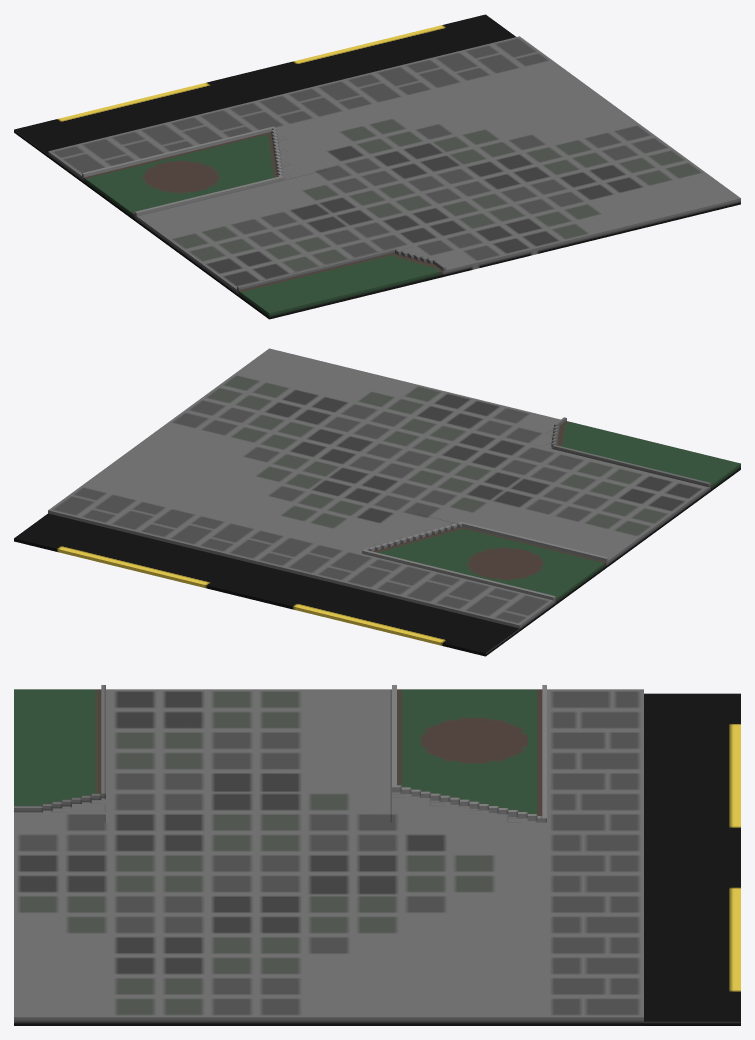
The model's file is Tile04.obj.
3 renders of one model, top to bottom at view 1: azimuth 30°, elevation 25°; view 2: azimuth 150°, elevation 25°; view 3: azimuth 270°, elevation 25°, orthographic. The views are drawn at different scales.
Parts seen in each view (by area): view 1: Content; view 2: Content; view 3: Content.
Part boxes in pixels (x1,y1,x2,y2): Content: (14,14,740,319); Content: (14,348,740,656); Content: (14,685,740,1025).
Size of the model in its own units: 24 by 0.45 by 22.5.
